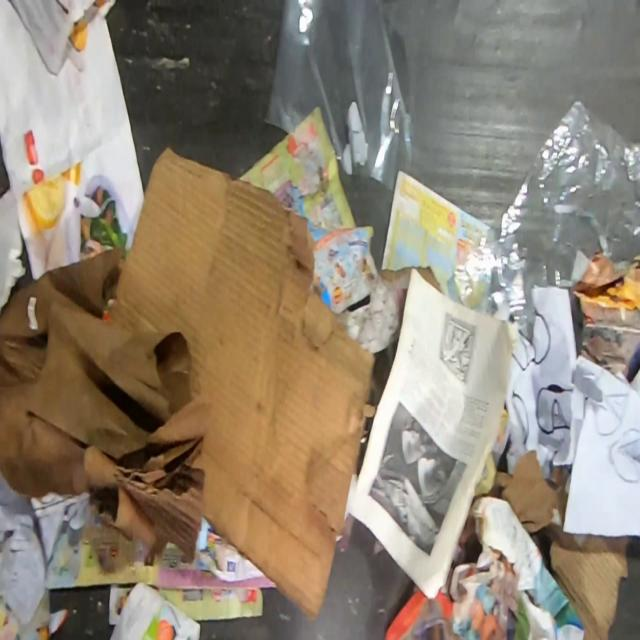cardboard: (108, 144, 377, 621), (0, 246, 216, 561), (487, 449, 630, 640)
soft_plastic: (452, 96, 640, 343), (263, 0, 415, 193)
